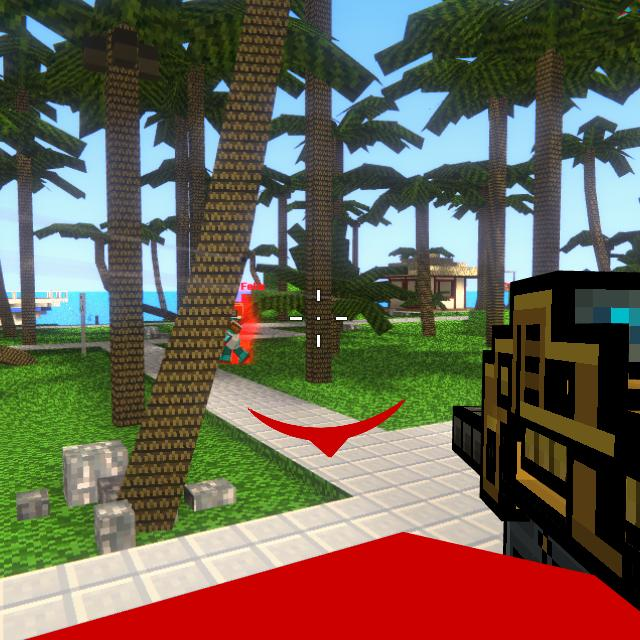Enemy: (219, 302, 251, 364)
